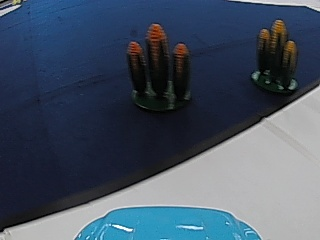corn: (126, 25, 191, 113), (252, 19, 297, 96)
